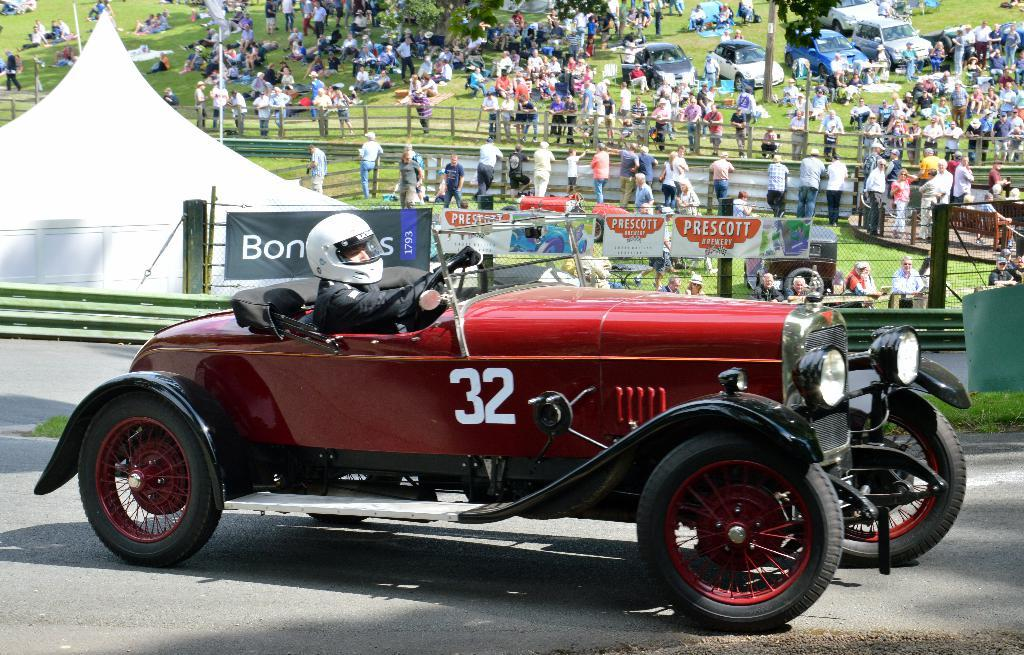helmet: (305, 213, 384, 285)
